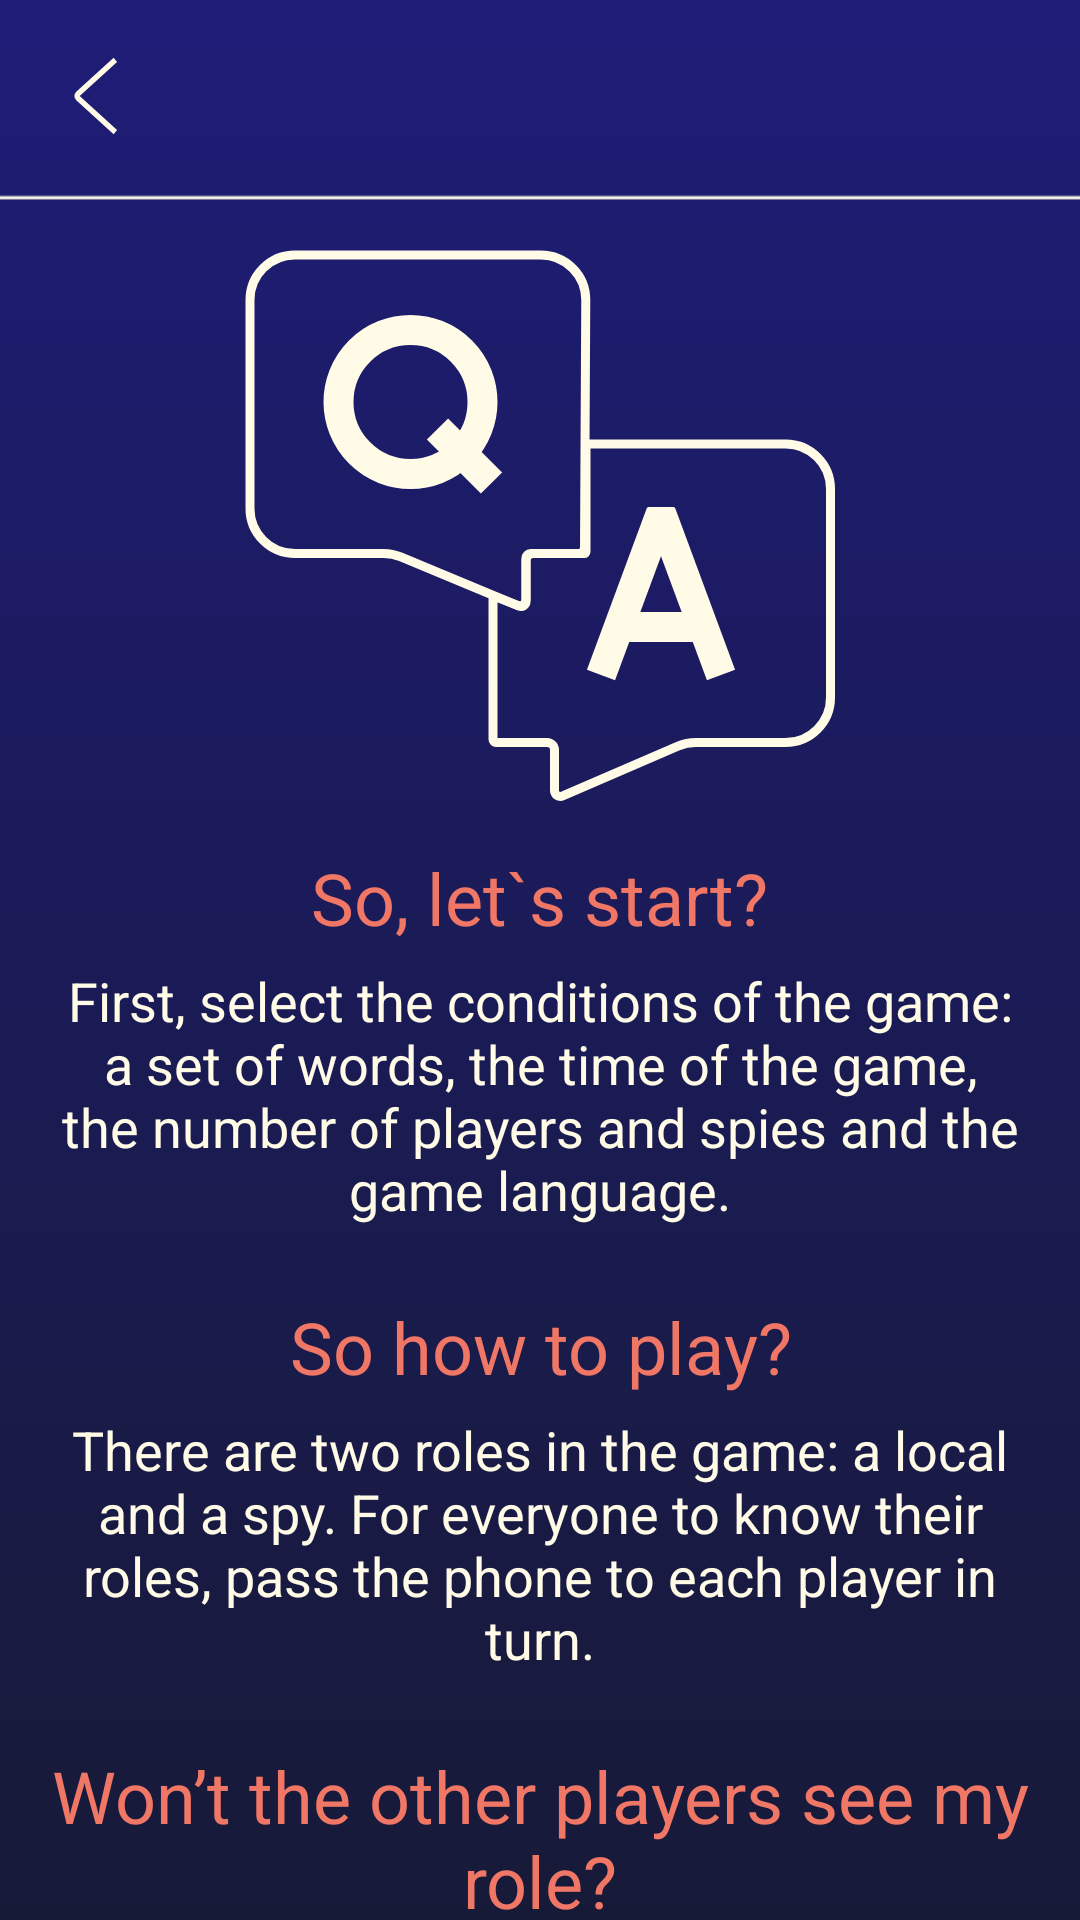

Where icons sit on this 1080 x 1920 app screen, as (x1, y1, x2, y2):
back: (74, 58, 117, 134)
